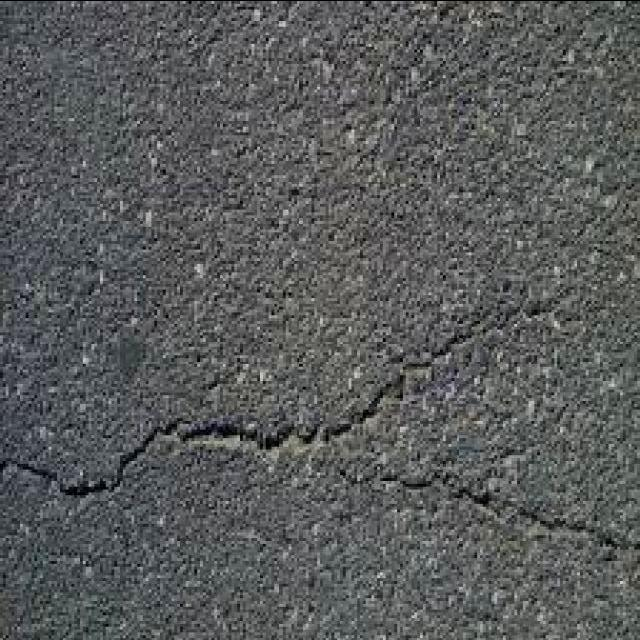SurfaceCrack: (0, 274, 552, 522), (312, 454, 640, 562)
